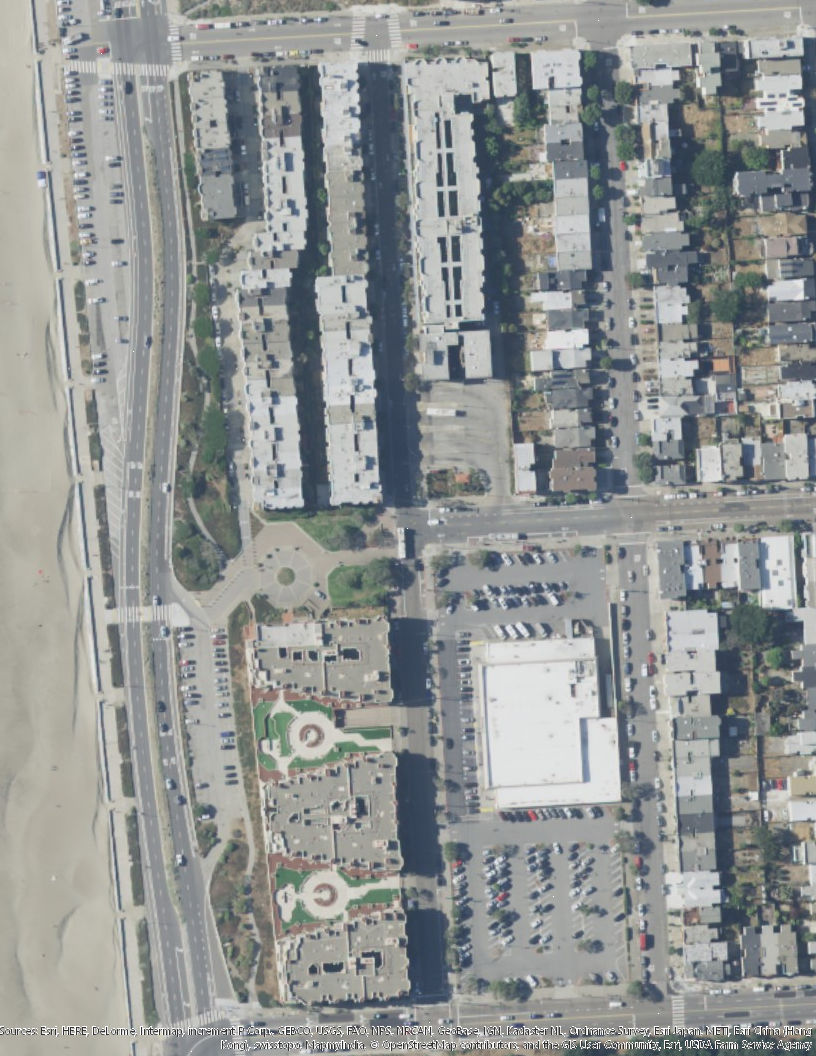zebracross: (172, 1008, 227, 1029), (112, 61, 171, 78), (348, 16, 366, 51), (167, 22, 182, 62), (230, 1019, 246, 1055), (670, 995, 686, 1028), (387, 15, 403, 47), (69, 60, 98, 75), (151, 604, 171, 621), (367, 48, 391, 62), (119, 607, 139, 623)
